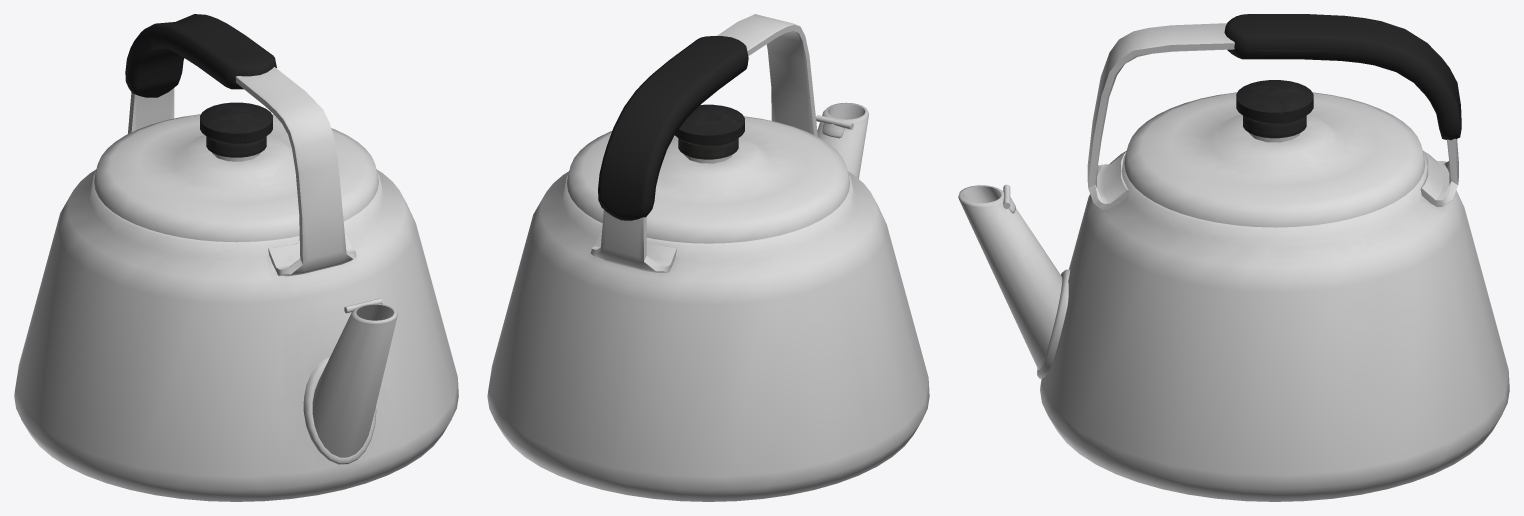
File: chaleira.glb
3 views of the same model, side by side, from view 1: azimuth 30°, elevation 25°; view 2: azimuth 150°, elevation 25°; view 3: azimuth 270°, elevation 25° (orthographic). The views are drawn at different scales.
Visible parts, largest first — view 1: models\props\interior_deco\kettle_01.vmdl_c.unnamed_1; view 2: models\props\interior_deco\kettle_01.vmdl_c.unnamed_1; view 3: models\props\interior_deco\kettle_01.vmdl_c.unnamed_1.
Boxes of the visible parts, left/top/right/bottom form: models\props\interior_deco\kettle_01.vmdl_c.unnamed_1: left=14, top=14, right=458, bottom=501; models\props\interior_deco\kettle_01.vmdl_c.unnamed_1: left=487, top=14, right=929, bottom=501; models\props\interior_deco\kettle_01.vmdl_c.unnamed_1: left=958, top=14, right=1509, bottom=501.
Size of the model in its own units: 0.2237 by 0.2056 by 0.2627.
1 material, 1 textured.
